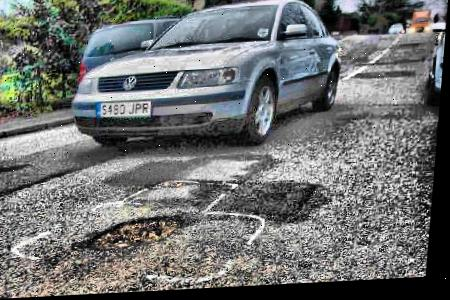pothole: (87, 216, 185, 255), (148, 177, 203, 191)
